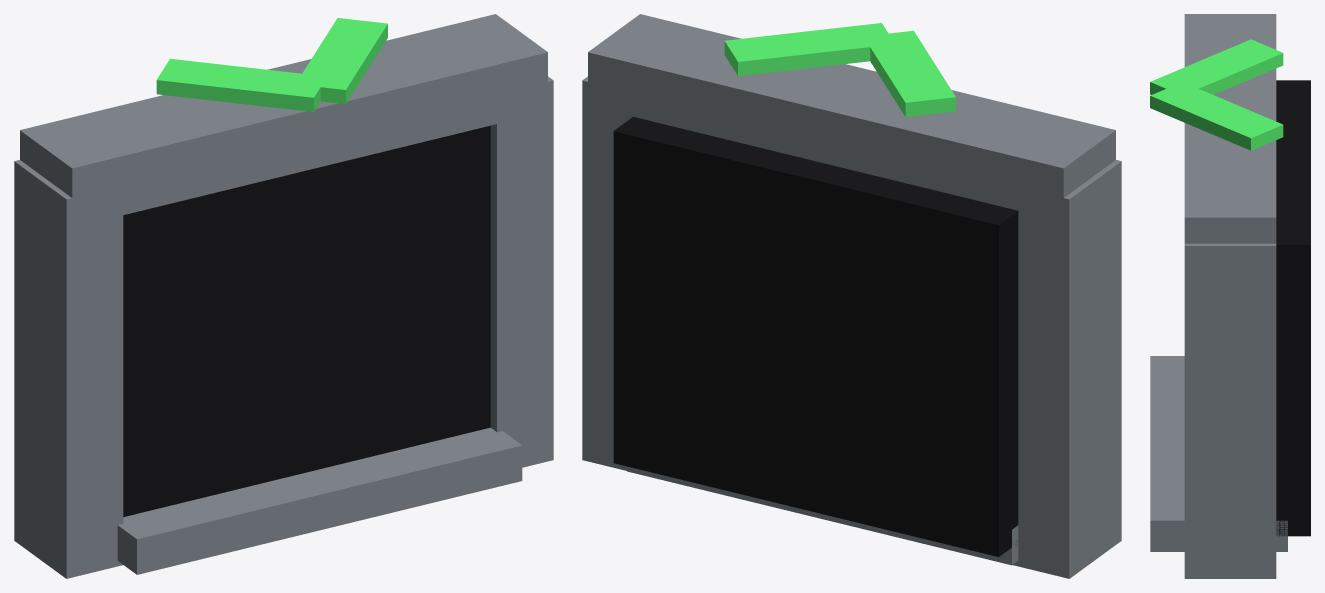
Rendered from port_out.obj.
3 renders of one model, left to right at view 1: azimuth 30°, elevation 25°; view 2: azimuth 150°, elevation 25°; view 3: azimuth 270°, elevation 25°, orthographic. The views are drawn at different scales.
Visible parts, largest first — view 1: Port; view 2: Port; view 3: Port.
Part boxes in pixels (bbox=[...]): Port: bbox=[14, 14, 553, 578]; Port: bbox=[582, 14, 1121, 578]; Port: bbox=[1150, 14, 1310, 578].
Size of the model in its own units: 0.43 by 0.371 by 0.1401.
